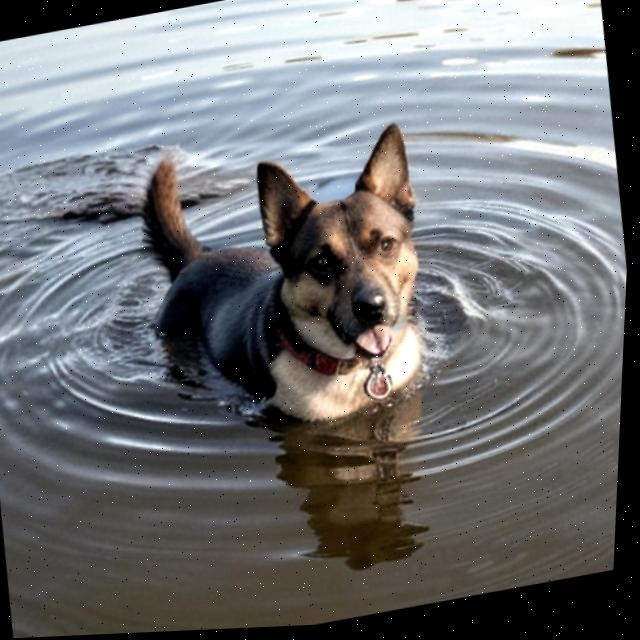dog: (92, 90, 480, 479)
